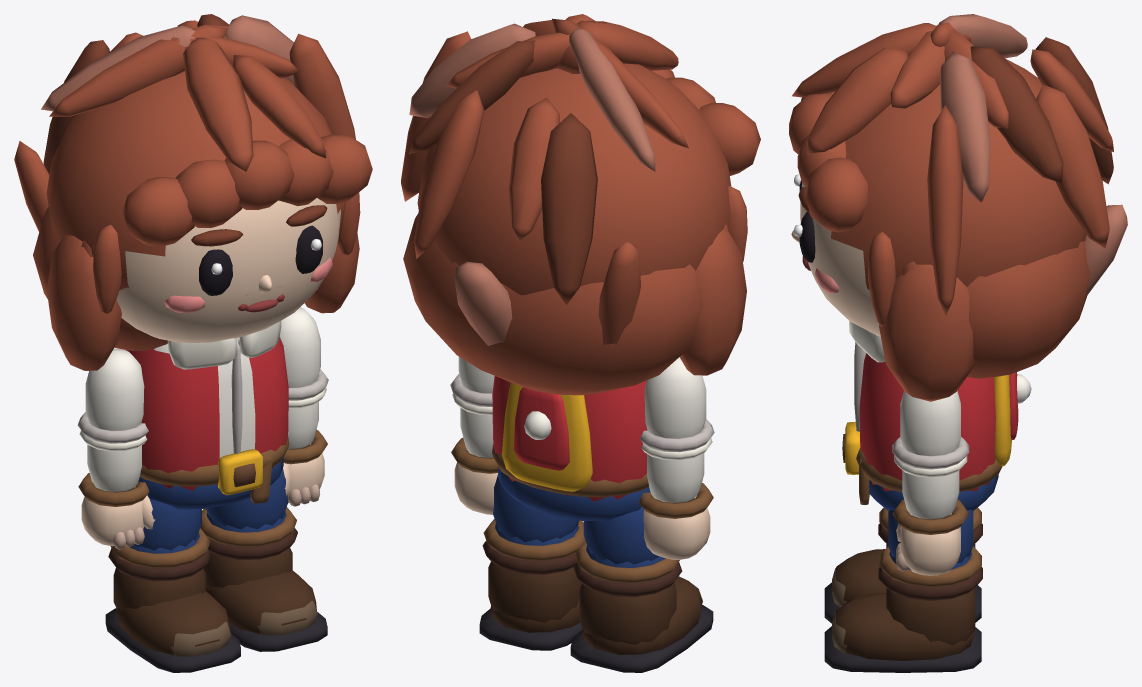
The model's file is ruler-a.glb.
3 views of the same model, side by side, from view 1: azimuth 30°, elevation 25°; view 2: azimuth 150°, elevation 25°; view 3: azimuth 270°, elevation 25° (orthographic). The views are drawn at different scales.
Visible parts, largest first — view 1: hair, torso, head, shin_r, shin_l, arm_r, arm_l, hand_r, leg_l, leg_r, hand_l, eye_r (+1 smaller); view 2: hair, torso, shin_r, shin_l, arm_r, arm_l, leg_r, leg_l, hand_r, hand_l; view 3: hair, torso, shin_l, arm_l, head, shin_r, hand_l, leg_l, eye_l.
Boxes of the visible parts, bbox=[...] form: hair: bbox=[14, 14, 372, 370]; torso: bbox=[125, 321, 289, 509]; head: bbox=[116, 198, 340, 342]; shin_r: bbox=[105, 528, 240, 672]; shin_l: bbox=[200, 507, 327, 651]; arm_r: bbox=[77, 348, 149, 506]; arm_l: bbox=[279, 307, 328, 464]; hand_r: bbox=[81, 484, 155, 549]; leg_l: bbox=[206, 468, 288, 532]; leg_r: bbox=[129, 498, 201, 553]; hand_l: bbox=[283, 444, 324, 506]; eye_r: bbox=[199, 249, 232, 295]; hair: bbox=[401, 14, 760, 395]; torso: bbox=[491, 376, 650, 521]; shin_r: bbox=[570, 541, 713, 672]; shin_l: bbox=[479, 519, 585, 650]; arm_r: bbox=[639, 357, 714, 518]; arm_l: bbox=[450, 356, 497, 473]; leg_r: bbox=[583, 506, 664, 567]; leg_l: bbox=[493, 475, 579, 545]; hand_r: bbox=[643, 496, 710, 559]; hand_l: bbox=[454, 451, 497, 514]; hair: bbox=[789, 14, 1127, 401]; torso: bbox=[842, 321, 1031, 510]; shin_l: bbox=[824, 546, 982, 672]; arm_l: bbox=[892, 391, 969, 534]; head: bbox=[791, 183, 880, 336]; shin_r: bbox=[824, 507, 982, 623]; hand_l: bbox=[896, 512, 960, 575]; leg_l: bbox=[888, 509, 973, 569]; eye_l: bbox=[794, 212, 815, 262].
Bounding box in the file's own units: 0.5411 × 0.983 × 0.4905.
1 material, 1 textured.
